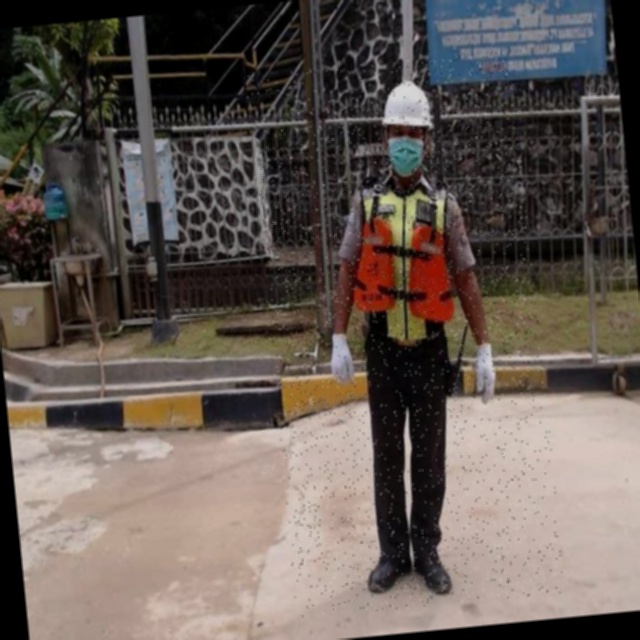boots: (205, 560, 253, 608), (254, 557, 300, 603)
gloves: (146, 359, 174, 418), (291, 334, 316, 384)
vest: (177, 194, 290, 357)
